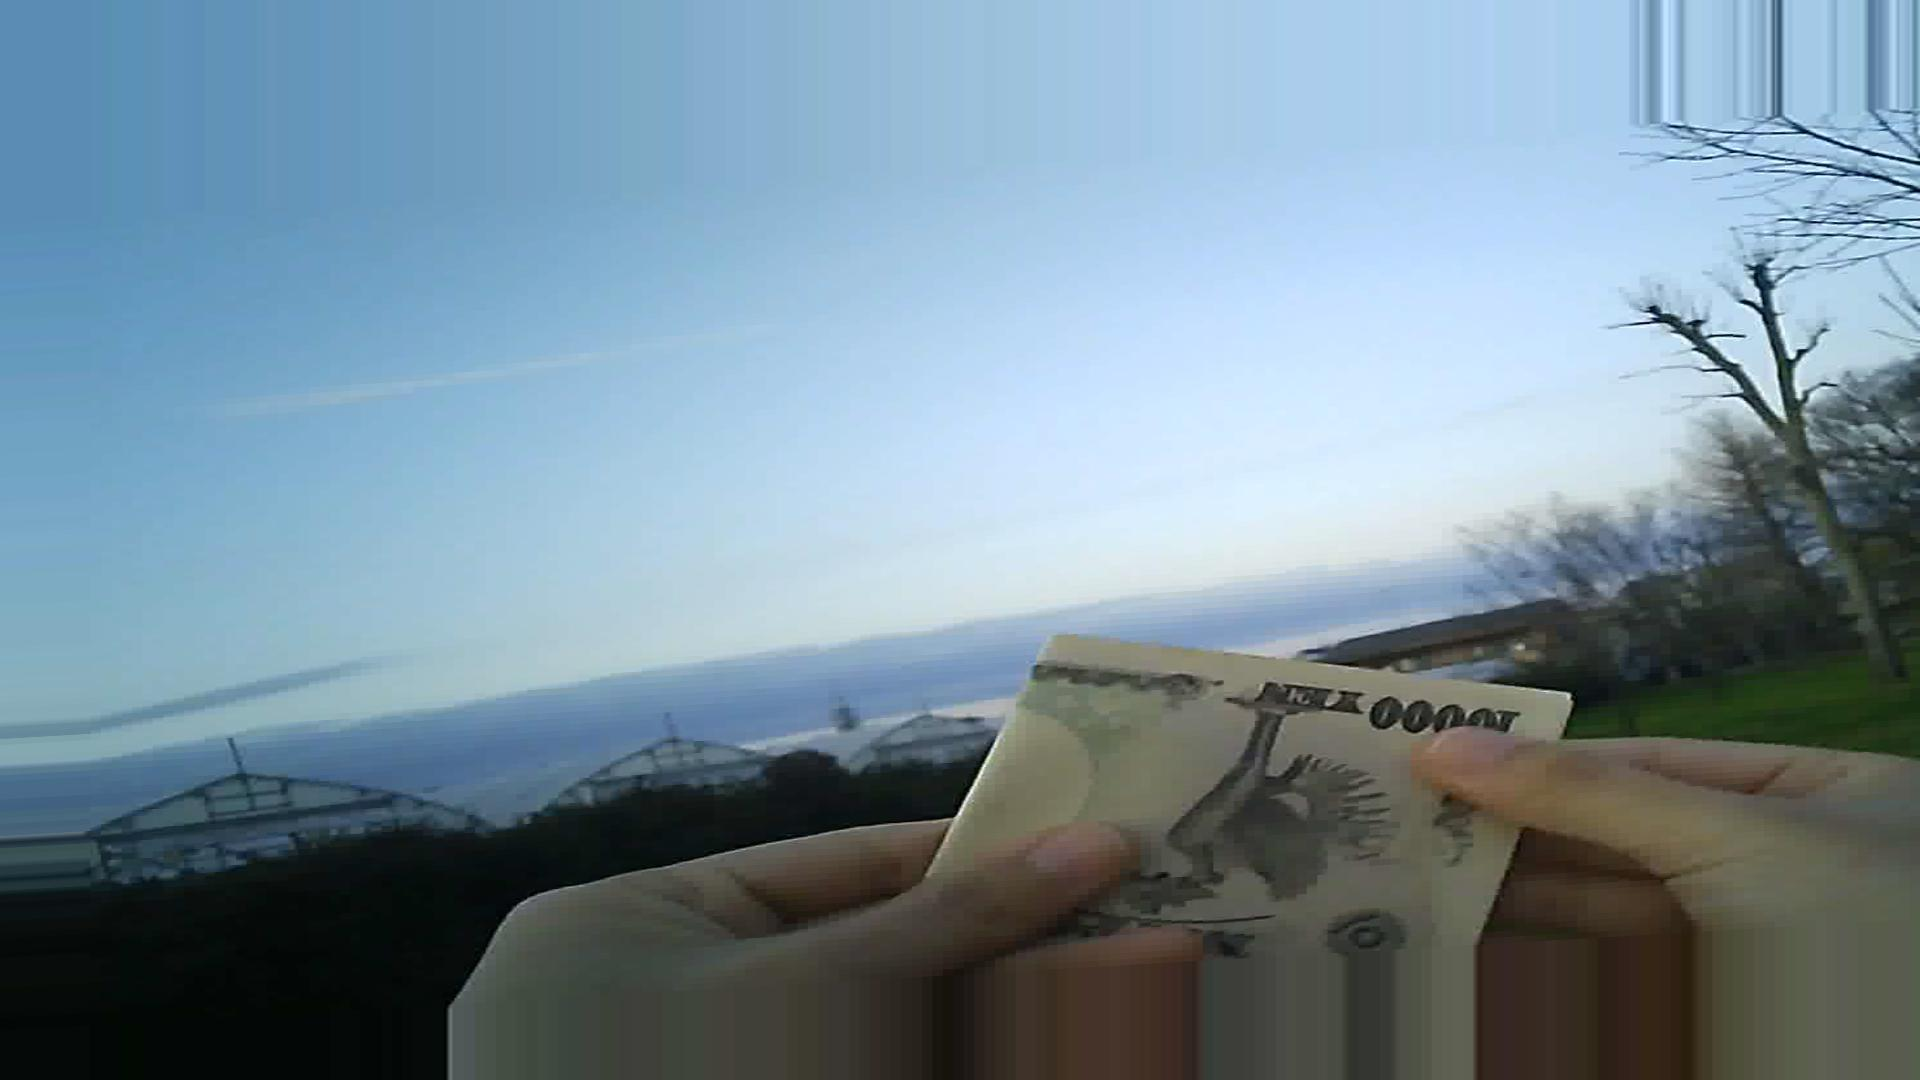10,000 Yen: (878, 644, 1602, 977)
